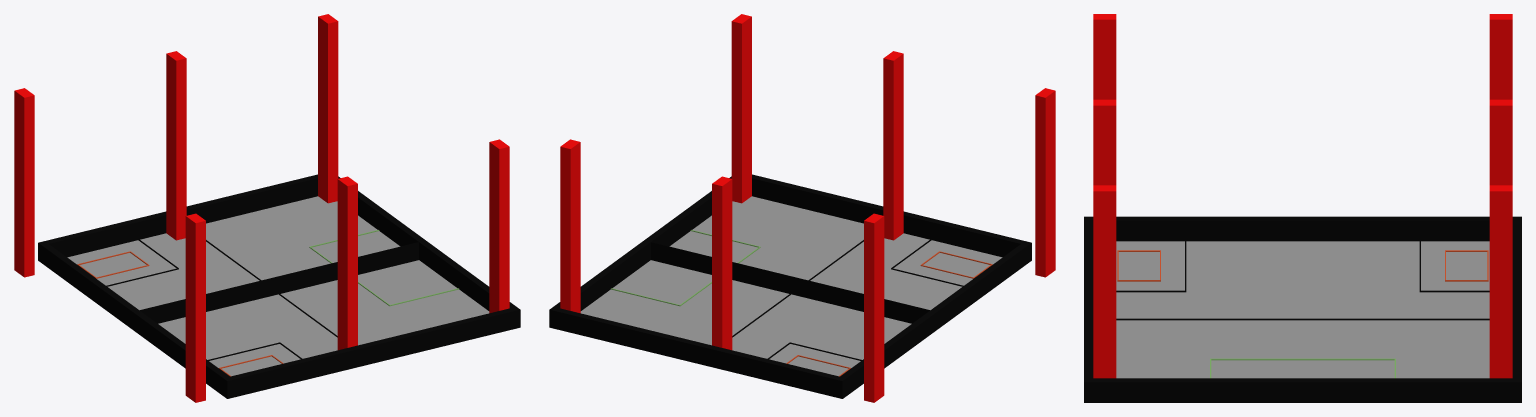
Rendered from competition_field.dae.
3 renders of one model, left to right at view 1: azimuth 30°, elevation 25°; view 2: azimuth 150°, elevation 25°; view 3: azimuth 270°, elevation 25°, orthographic. The views are drawn at different scales.
Visible parts, largest first — view 1: 65fa35c638f17a71a9c14937 (×8); view 2: 65fa35c638f17a71a9c14937 (×8); view 3: 65fa35c638f17a71a9c14937 (×10).
Boxes of the visible parts, x1,y1,x2,y2 form: 65fa35c638f17a71a9c14937 (×8): [14, 14, 520, 402]; 65fa35c638f17a71a9c14937 (×8): [549, 14, 1055, 402]; 65fa35c638f17a71a9c14937 (×10): [1084, 14, 1521, 402].
Size of the model in its own units: 9.34 by 9.54 by 5.03.
